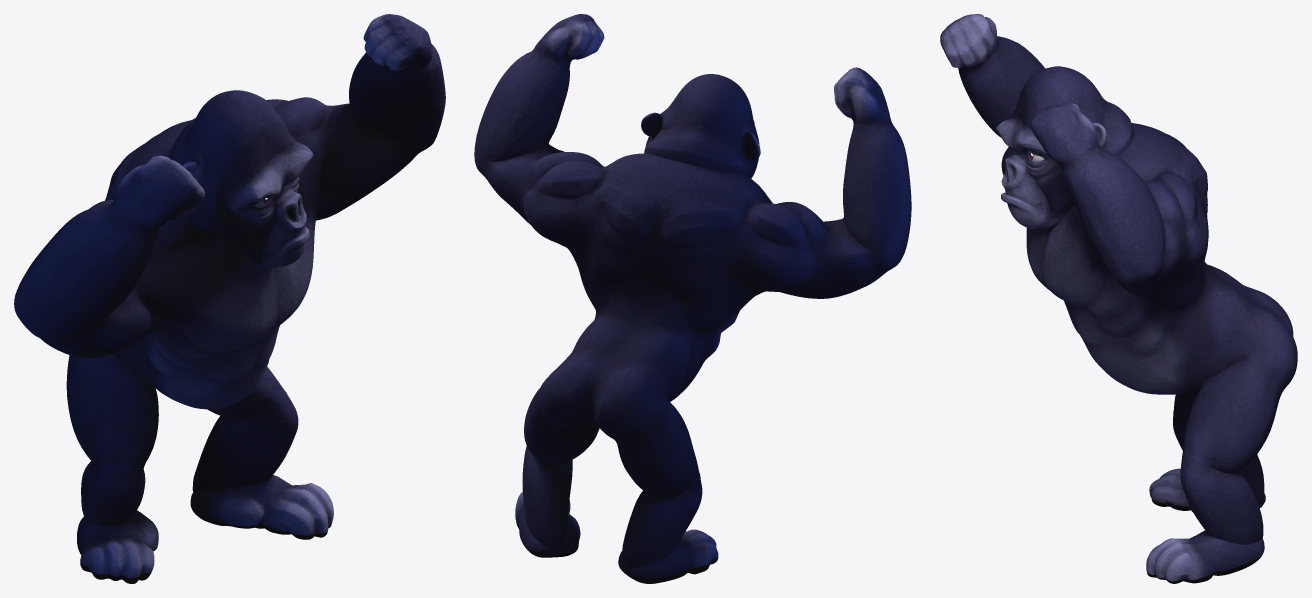
File: gorilla.glb
3 views of the same model, side by side, from view 1: azimuth 30°, elevation 25°; view 2: azimuth 150°, elevation 25°; view 3: azimuth 270°, elevation 25° (orthographic). The views are drawn at different scales.
Parts seen in each view (by area): view 1: gorilla; view 2: gorilla; view 3: gorilla.
Part boxes in pixels (<box>): gorilla: <box>14,14,445,583</box>; gorilla: <box>474,14,911,583</box>; gorilla: <box>940,14,1297,583</box>.
Bounding box in the file's own units: 4.73 × 5.44 × 3.64.
5 materials, 3 textured.
